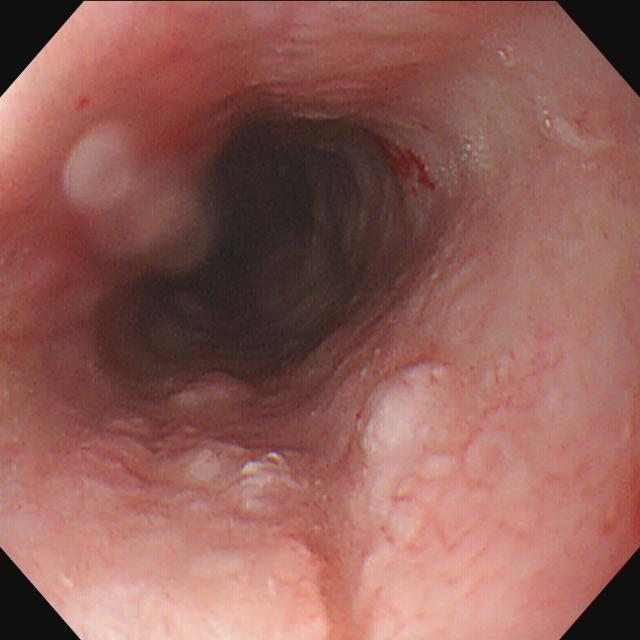A: (84, 363, 484, 573)
C: (371, 131, 444, 195)
E: (180, 128, 379, 321)
